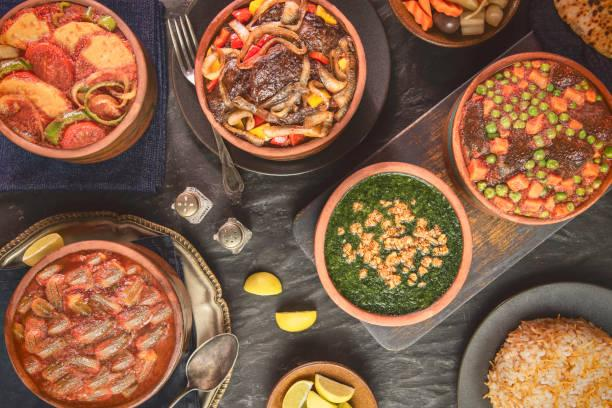Braised Crucian Carp: (170, 0, 384, 179), (4, 239, 188, 408), (449, 51, 608, 222), (314, 161, 471, 327), (2, 0, 156, 163)
